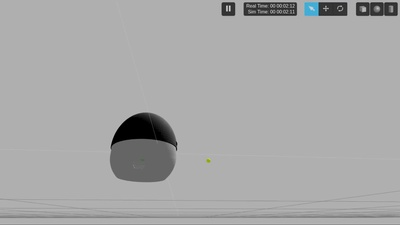mira_robot: (110, 113, 178, 185)
